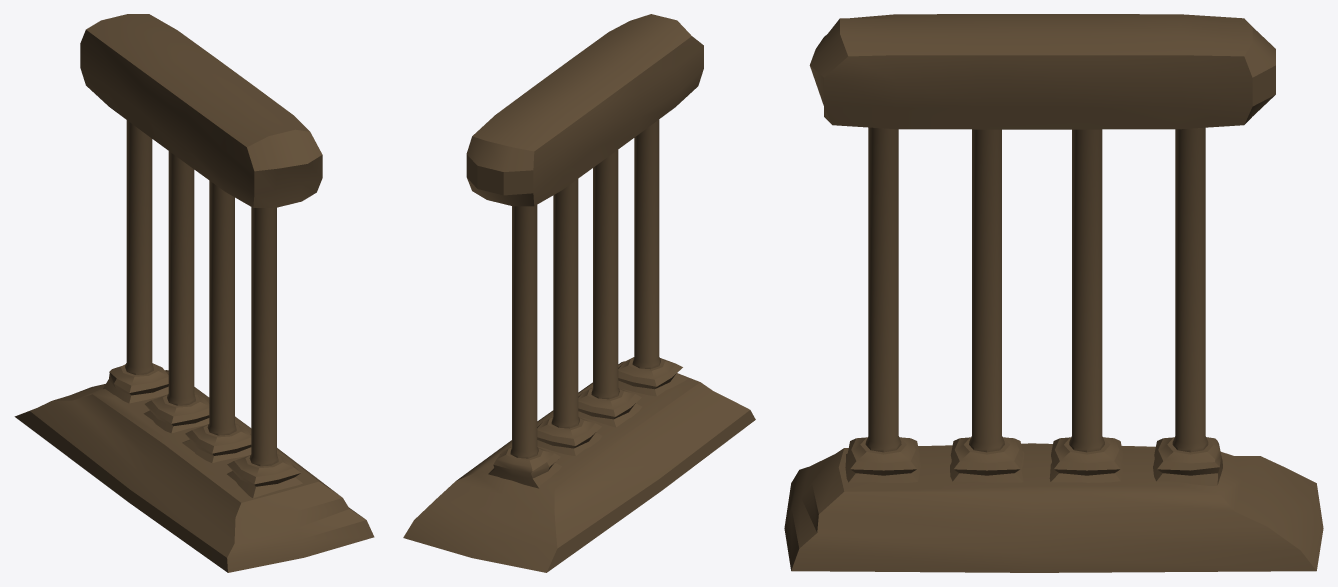
Rendered from pilastras.fbx.
3 views of the same model, side by side, from view 1: azimuth 30°, elevation 25°; view 2: azimuth 150°, elevation 25°; view 3: azimuth 270°, elevation 25° (orthographic). The views are drawn at different scales.
Parts seen in each view (by area): view 1: Pilastras; view 2: Pilastras; view 3: Pilastras.
Part boxes in pixels (x1,y1,x2,y2): Pilastras: (14, 14, 374, 572); Pilastras: (403, 14, 755, 572); Pilastras: (784, 14, 1323, 572).
Size of the model in its own units: 423 by 1109 by 1073.
